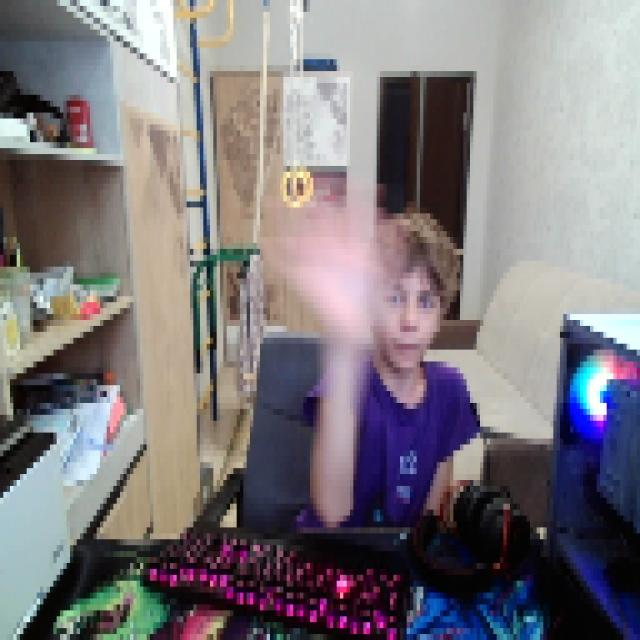hand: (266, 172, 406, 332)
